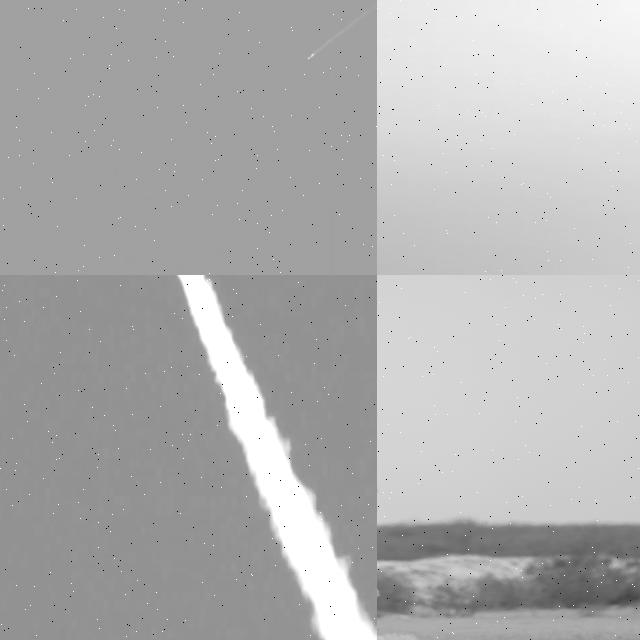Rocket: (306, 52, 314, 61)
